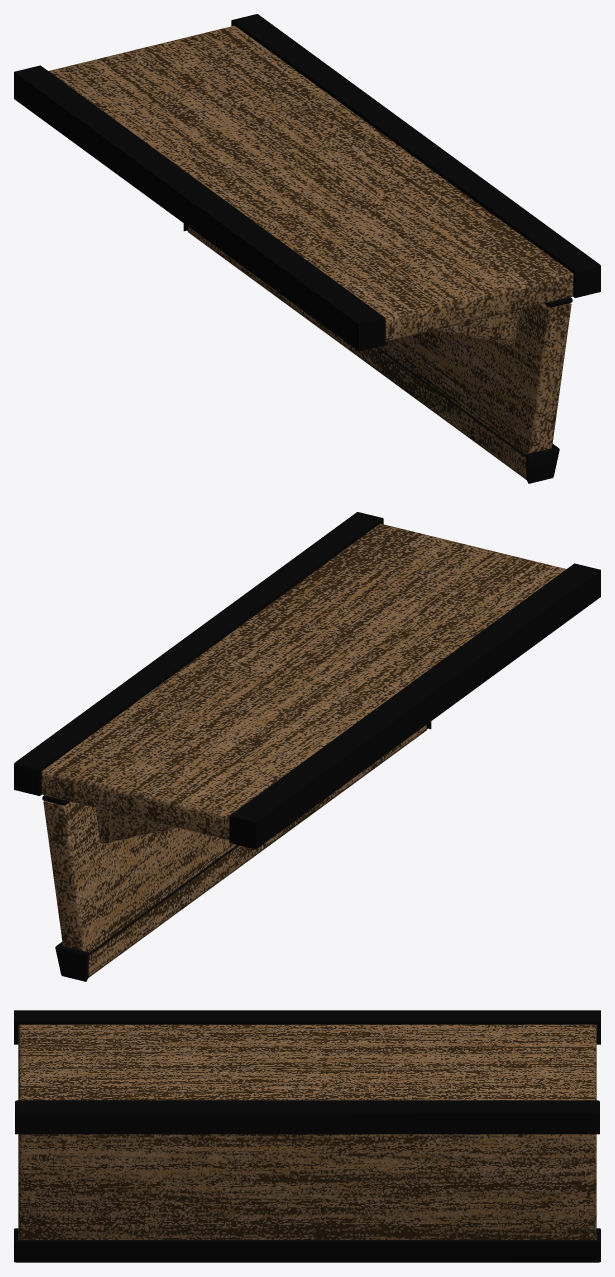
Rendered from Vico_Object_Court_Desk.fbx.
3 views of the same model, one above another, from view 1: azimuth 30°, elevation 25°; view 2: azimuth 150°, elevation 25°; view 3: azimuth 270°, elevation 25° (orthographic). The views are drawn at different scales.
Visible parts, largest first — view 1: Court_Desk; view 2: Court_Desk; view 3: Court_Desk.
Boxes of the visible parts, x1,y1,x2,y2 form: Court_Desk: (14, 14, 600, 483); Court_Desk: (14, 512, 600, 981); Court_Desk: (14, 1010, 600, 1262).
Bounding box in the file's own units: 103 × 81.5 × 254.
